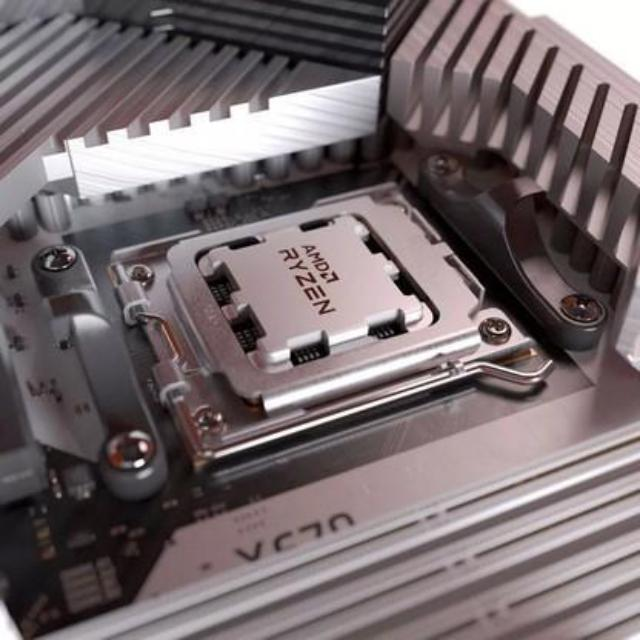CPU: (184, 208, 438, 392)
